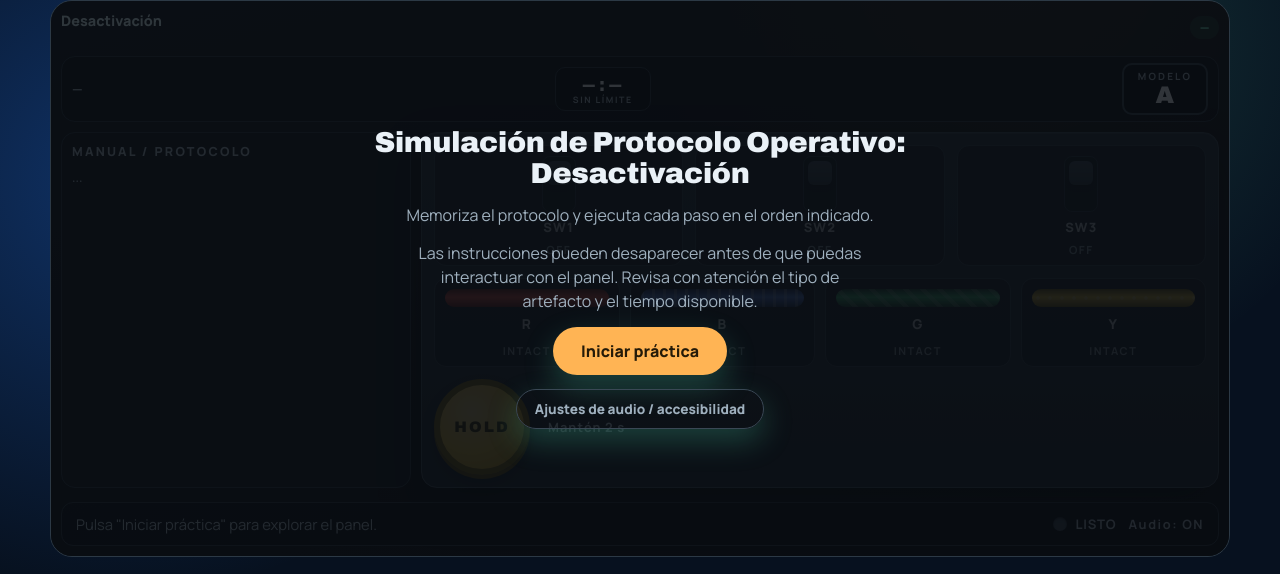
BombDefusalGame — mundo + panel + HUD (B2) › switch: OFF→ON físico + aria-pressed + SFX mecánico + telemetría ACTION_SWITCH
Click the button with test id "bomb-start-practice": [640, 351] box top-left (553, 327), bottom-right (727, 375)
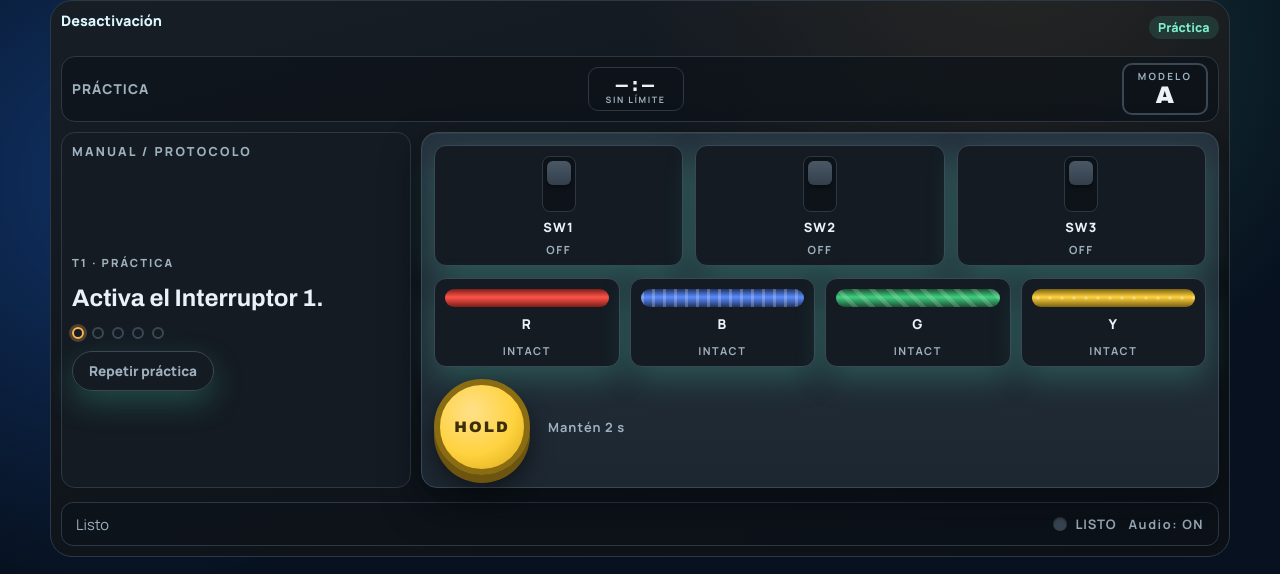
Click the button with test id "bomb-switch-SW_1": [559, 205] box top-left (434, 145), bottom-right (683, 266)
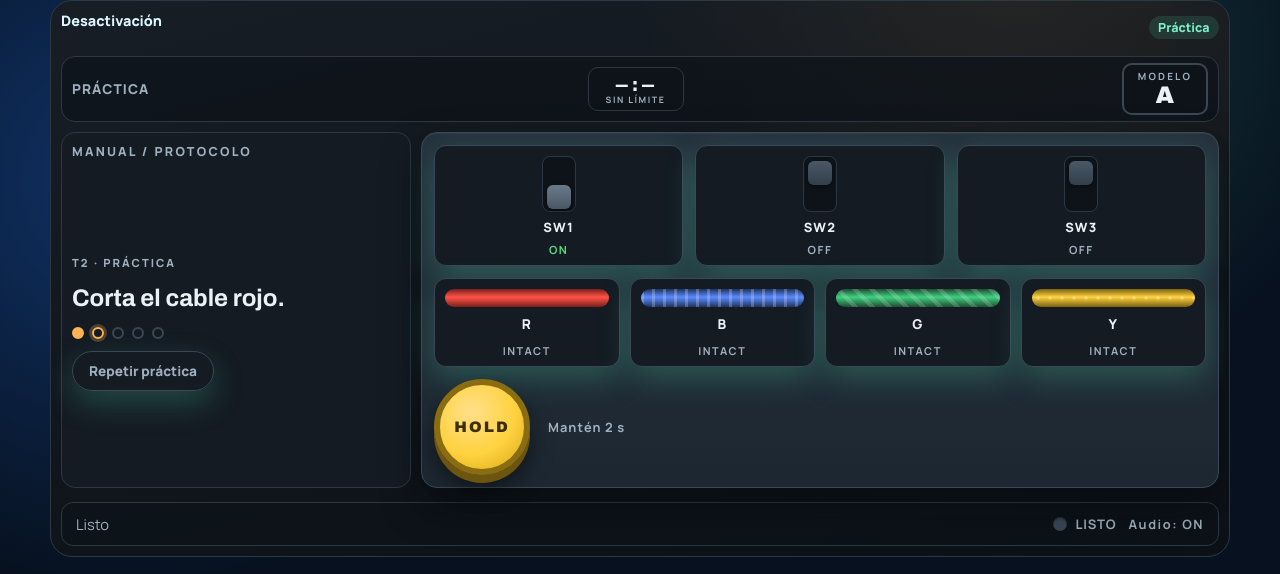
Check: the button with test id "bomb-switch-SW_1" shows "ON", box top-left (434, 145), bottom-right (683, 266)
